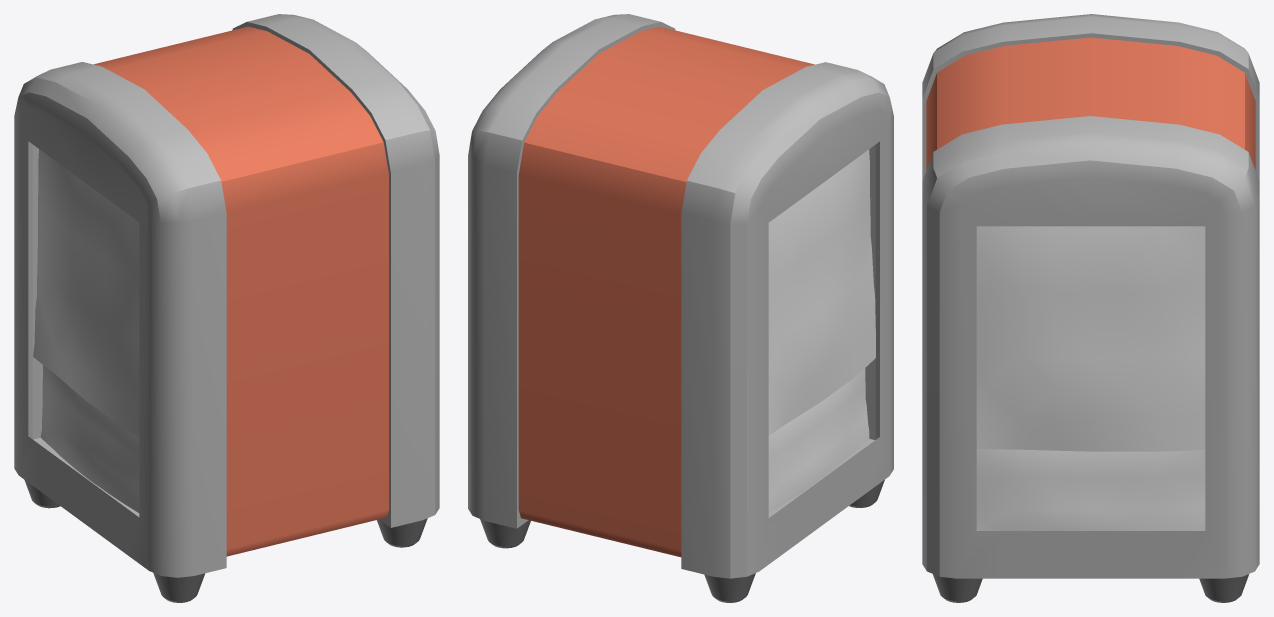
Rendered from wow napkins.fbx.
3 views of the same model, side by side, from view 1: azimuth 30°, elevation 25°; view 2: azimuth 150°, elevation 25°; view 3: azimuth 270°, elevation 25° (orthographic). The views are drawn at different scales.
Parts seen in each view (by area): view 1: pCylinder18; view 2: pCylinder18; view 3: pCylinder18.
Part boxes in pixels (x1,y1,x2,y2): pCylinder18: (14, 14, 439, 602); pCylinder18: (468, 14, 893, 602); pCylinder18: (922, 14, 1259, 602).
Bounding box in the file's own units: 1.04 × 1.56 × 1.02.
